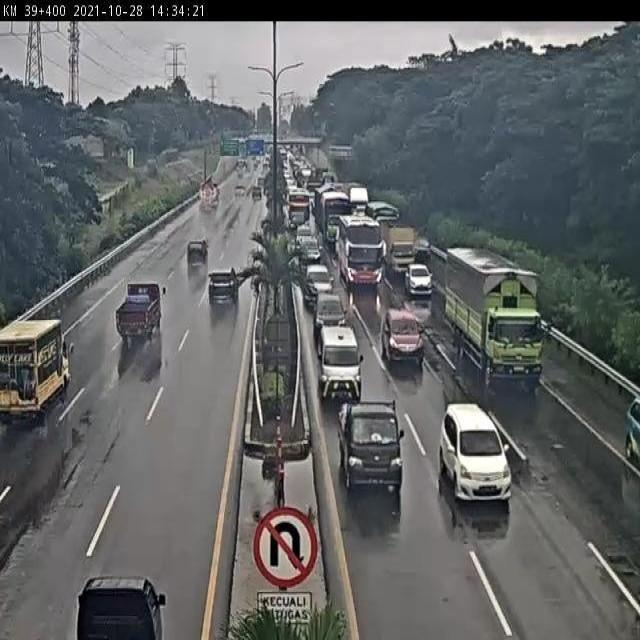Bus: (286, 188, 312, 226)
Car: (433, 404, 520, 506), (337, 398, 405, 494), (317, 325, 362, 402), (382, 307, 424, 367), (202, 260, 244, 312), (313, 292, 348, 343), (303, 264, 335, 311), (623, 397, 640, 468), (404, 264, 434, 300), (294, 232, 320, 262), (235, 184, 246, 197), (236, 158, 247, 171)
Truck: (443, 248, 543, 397), (0, 309, 78, 429), (75, 575, 167, 640), (105, 280, 167, 348), (336, 212, 384, 290), (382, 224, 417, 278), (316, 187, 349, 241), (365, 201, 400, 225), (199, 179, 220, 212), (187, 239, 208, 270), (348, 187, 369, 215), (306, 169, 325, 192), (322, 172, 336, 186), (252, 184, 262, 200), (257, 174, 265, 189)
